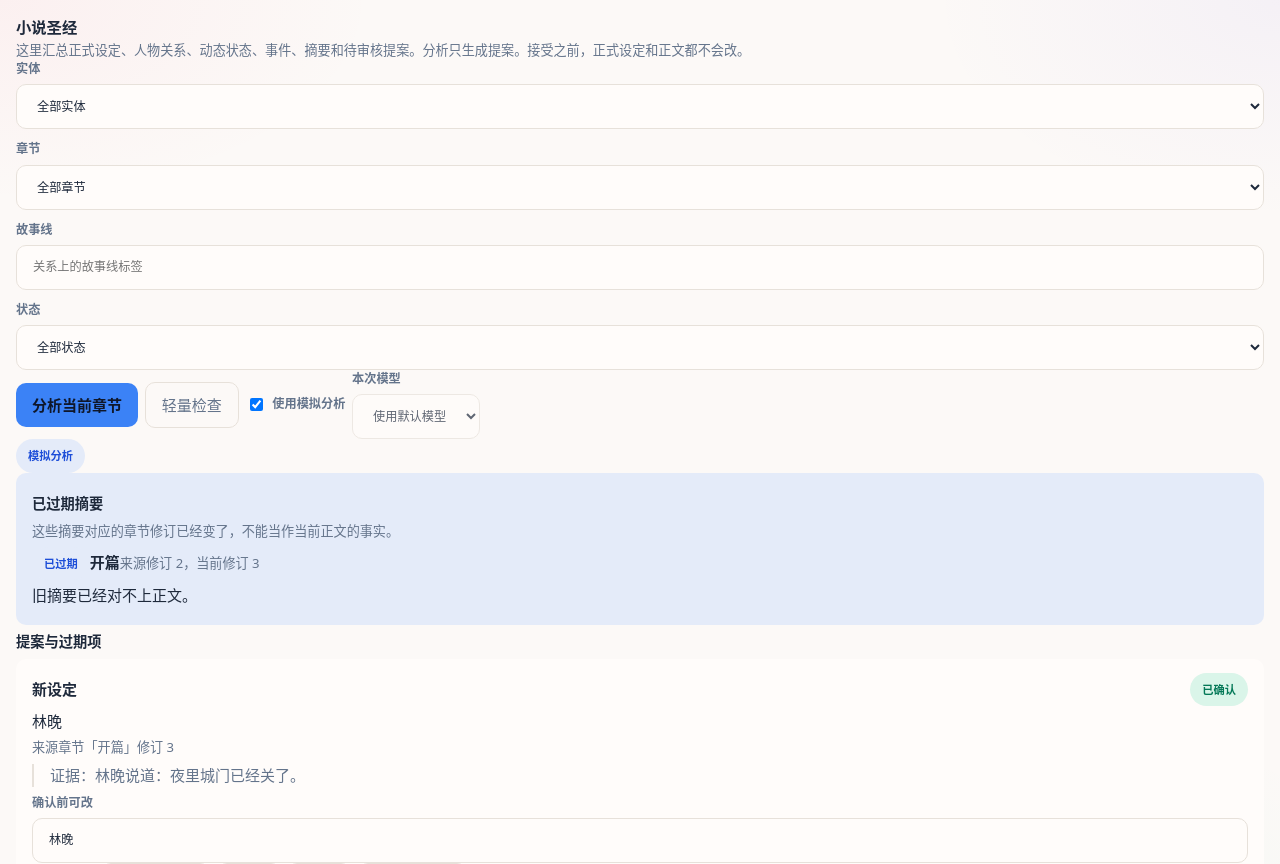
Test: MemoryPanel › keeps analysis results as proposals
Click the button "分析当前章节" at (77, 405), box [16,383,138,427]
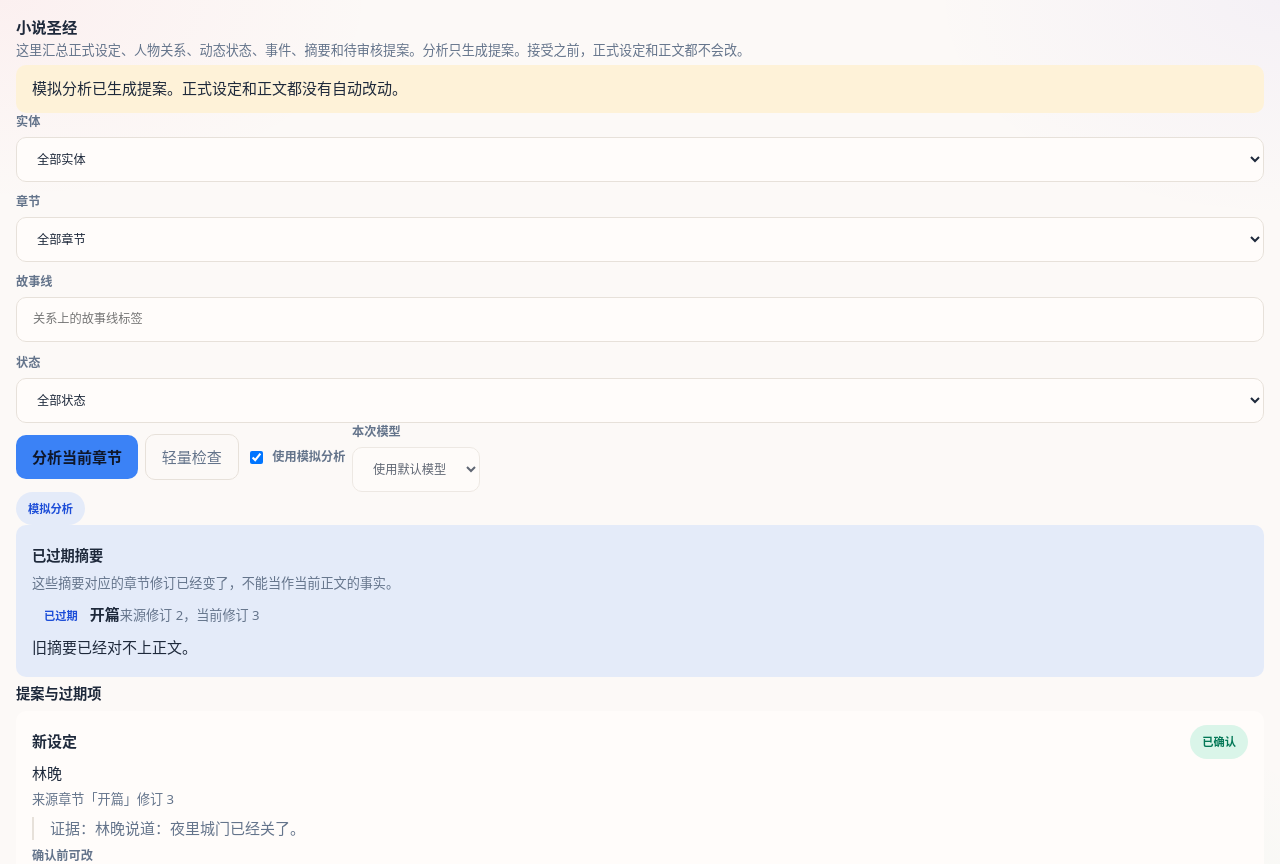
Result: the text "模拟分析已生成提案。正式设定和正文都没有自动改动。" is shown at [16,65,1264,113]
